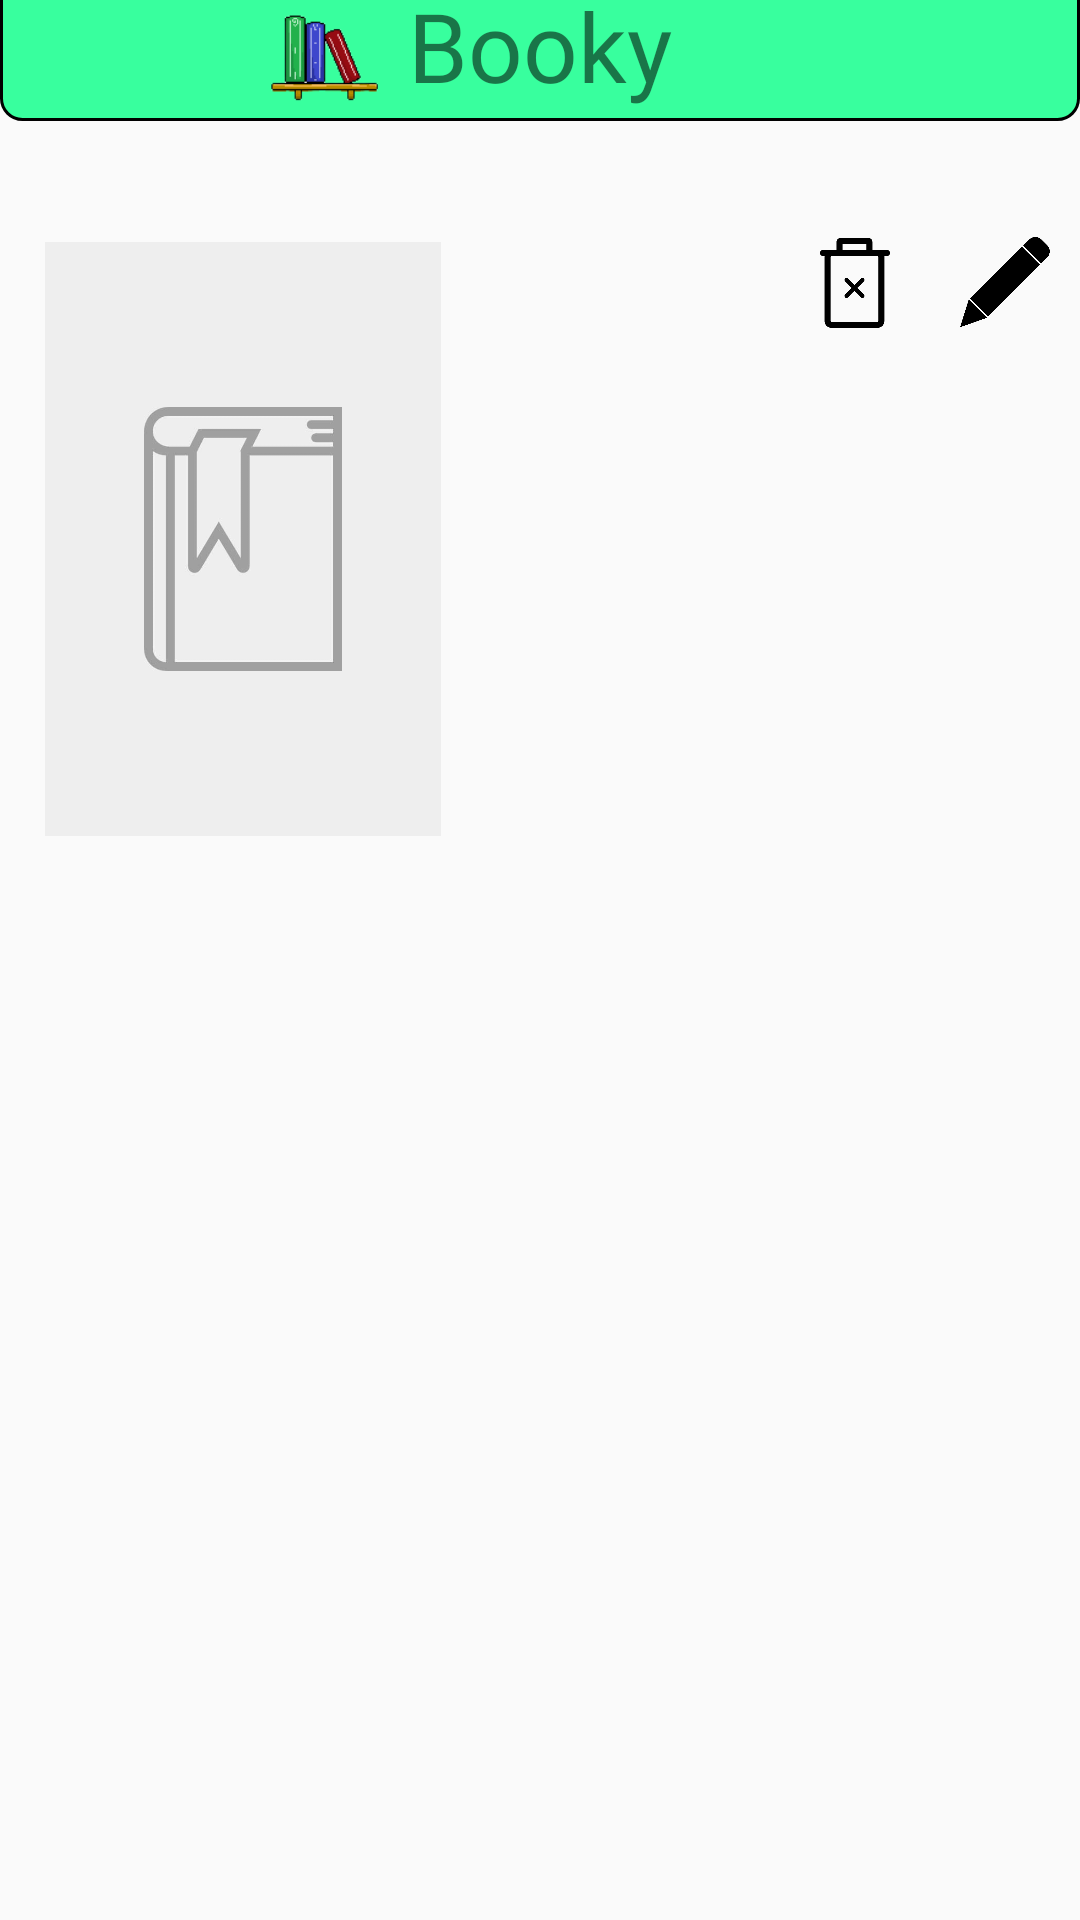

Icons on this 1080*1920 Android screen, each with its box as [x1,y1,x2,y2]:
edit: [960,237,1050,327]
remove: [820,238,890,328]
